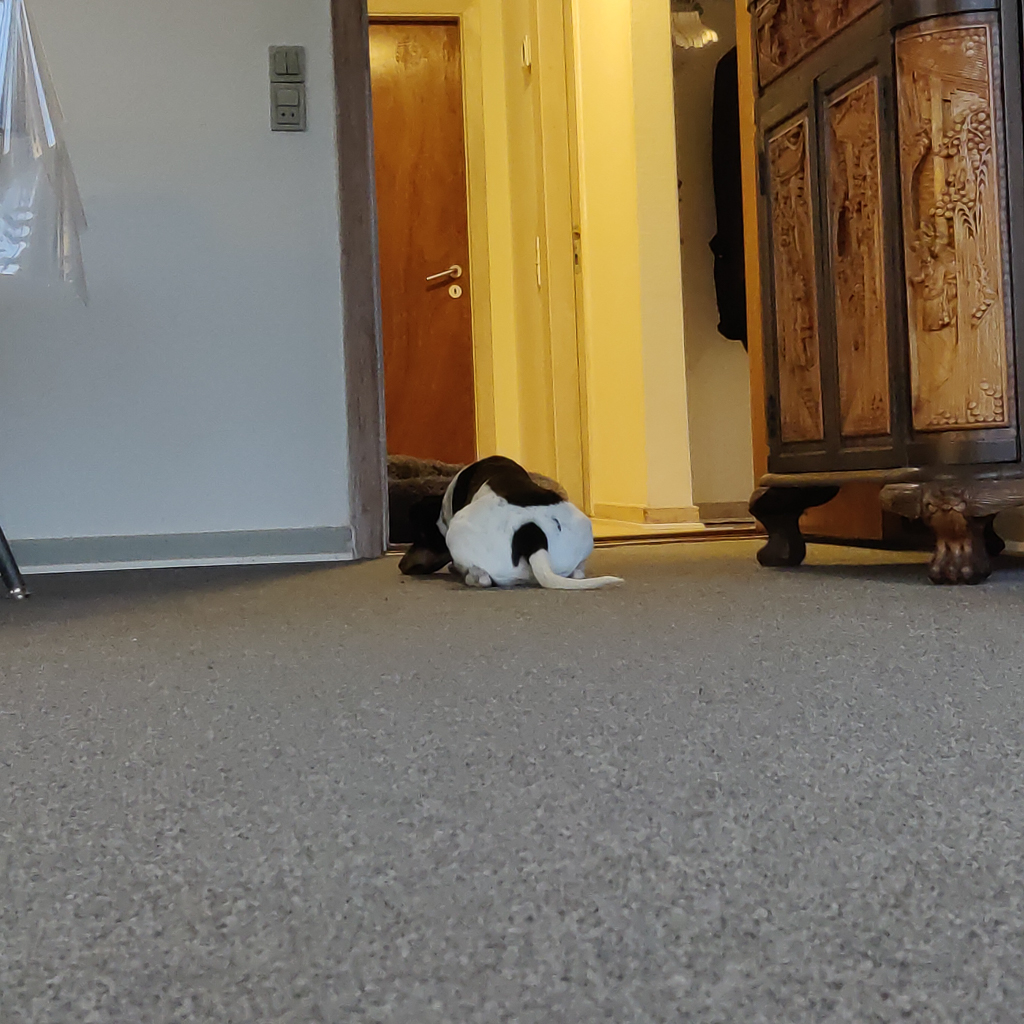Dog: (377, 442, 643, 602)
